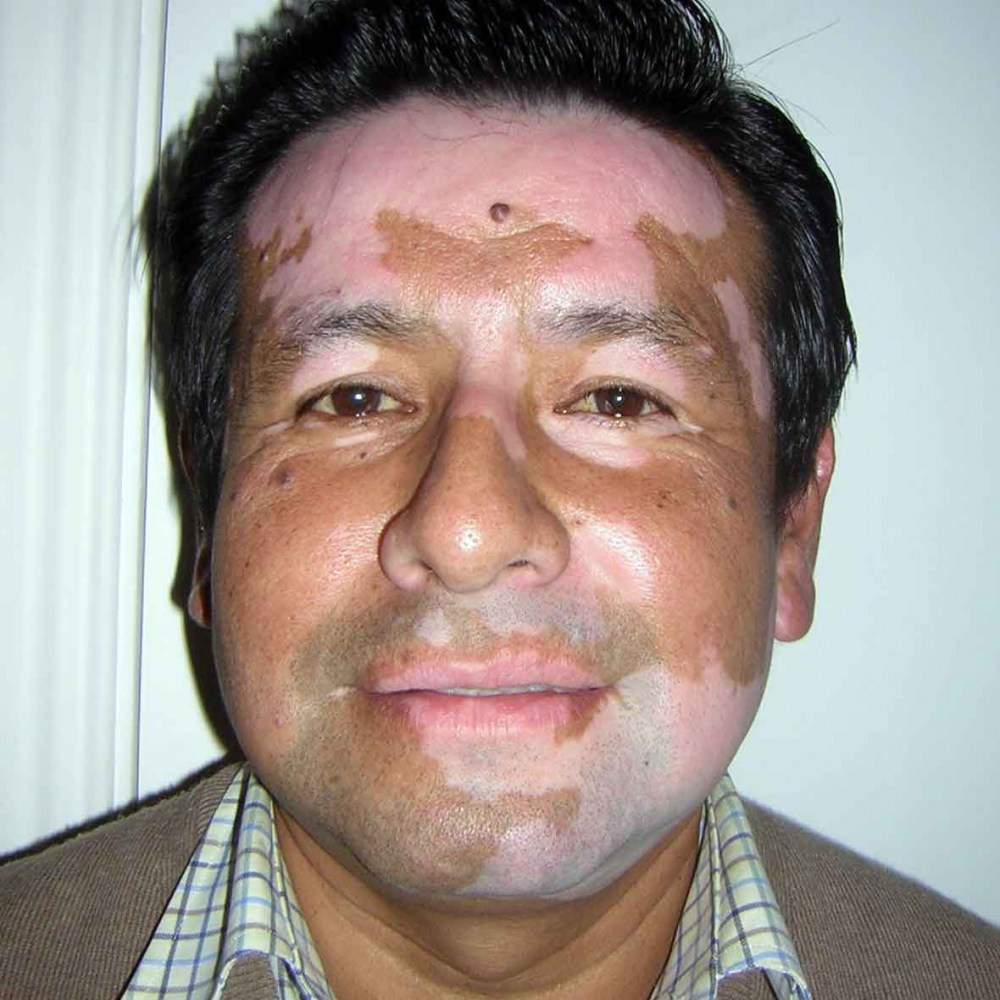Vitiligo: (241, 105, 782, 917)
